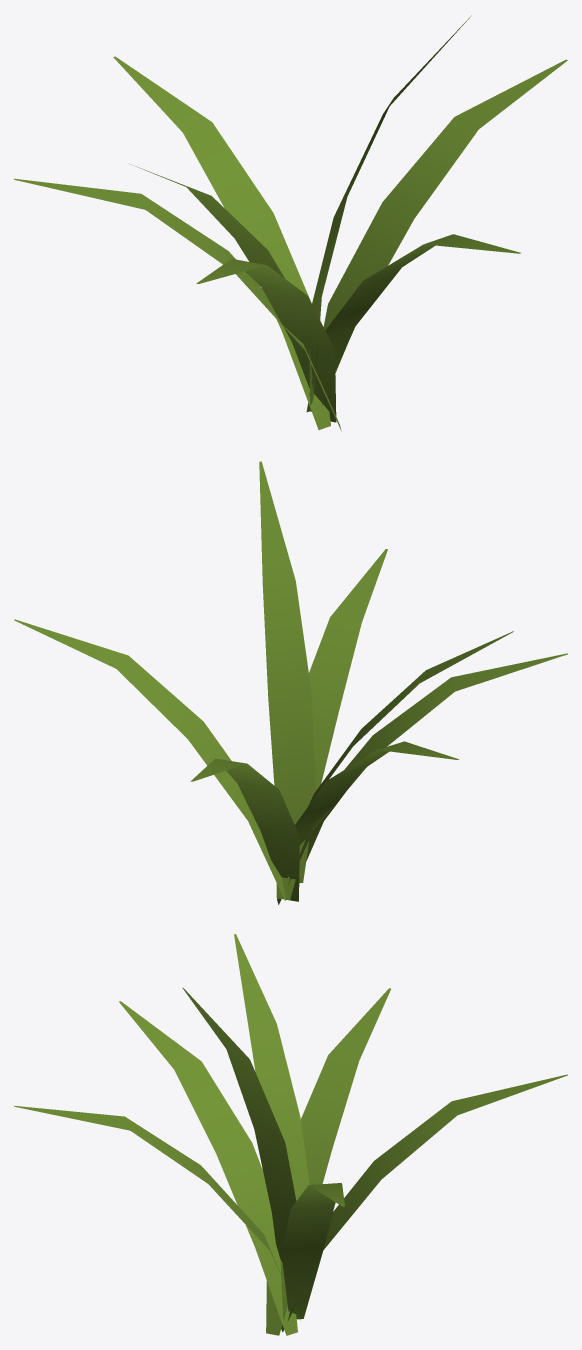
File: U_Grass_A_01.fbx
3 views of the same model, one above another, from view 1: azimuth 30°, elevation 25°; view 2: azimuth 150°, elevation 25°; view 3: azimuth 270°, elevation 25° (orthographic). The views are drawn at different scales.
Visible parts, largest first — view 1: U_Grass_A_01; view 2: U_Grass_A_01; view 3: U_Grass_A_01.
Boxes of the visible parts, x1,y1,x2,y2 form: U_Grass_A_01: [14, 15, 567, 431]; U_Grass_A_01: [14, 461, 567, 904]; U_Grass_A_01: [14, 934, 567, 1335].
Bounding box in the file's own units: 94.59 × 73.97 × 97.37.
